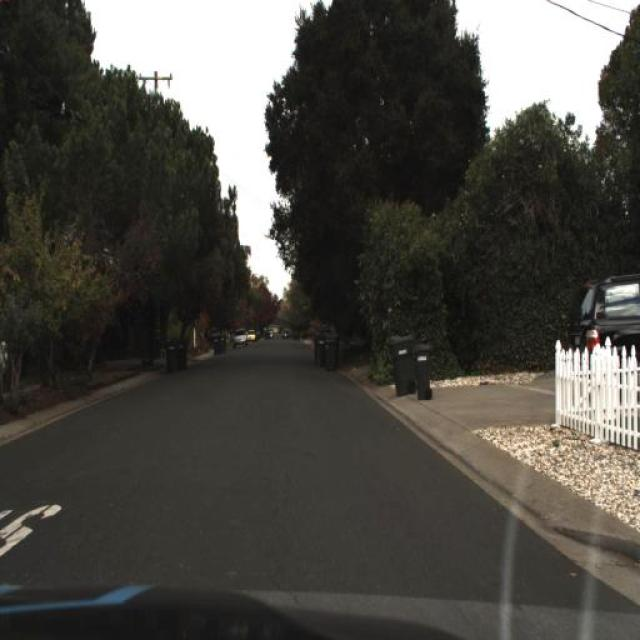car: (234, 328, 248, 348), (247, 331, 256, 342), (282, 330, 289, 339), (268, 330, 274, 338), (265, 333, 271, 339)
